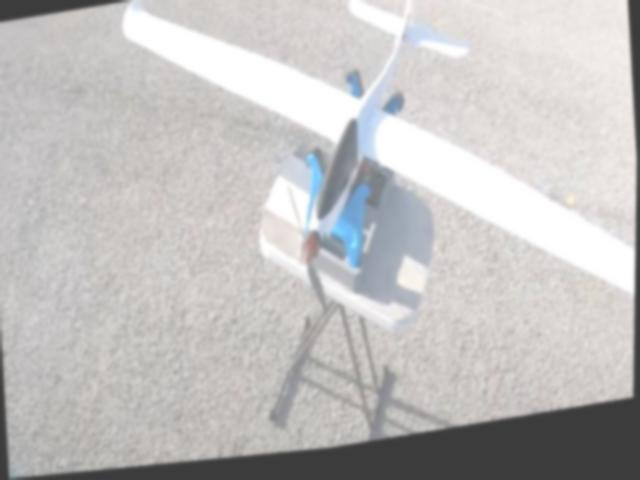iha: (115, 0, 640, 388)
